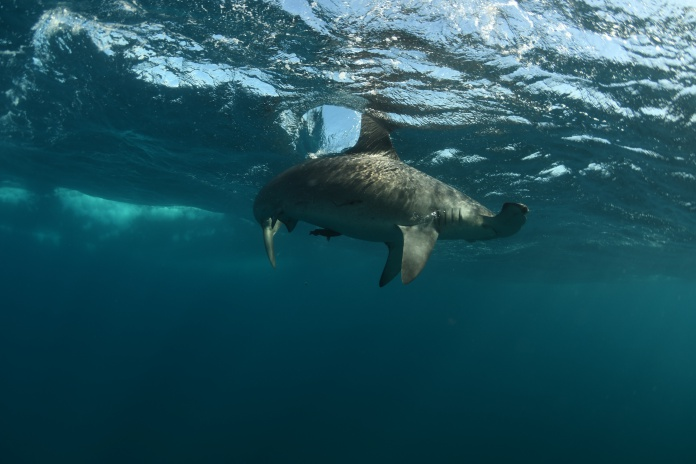Hammer: (242, 103, 543, 300)
